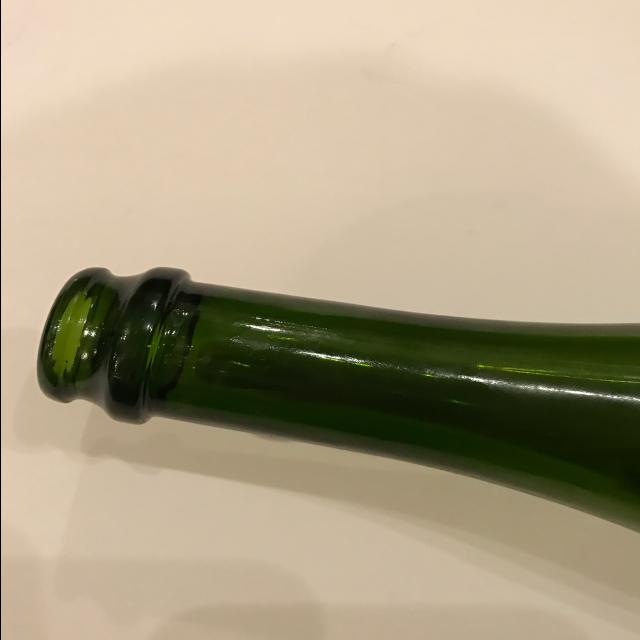glass: (9, 147, 640, 560)
